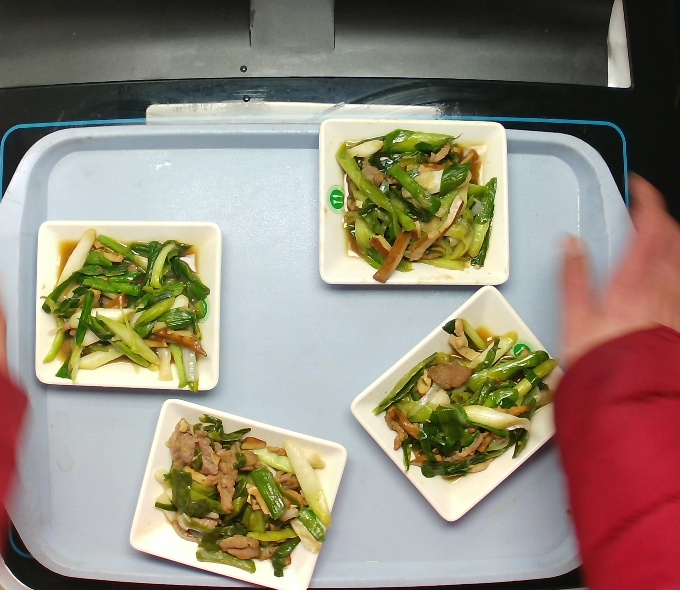wcq-SuanYeChaoRou: (368, 312, 571, 489), (148, 405, 340, 583), (36, 225, 214, 397), (332, 125, 503, 289)
